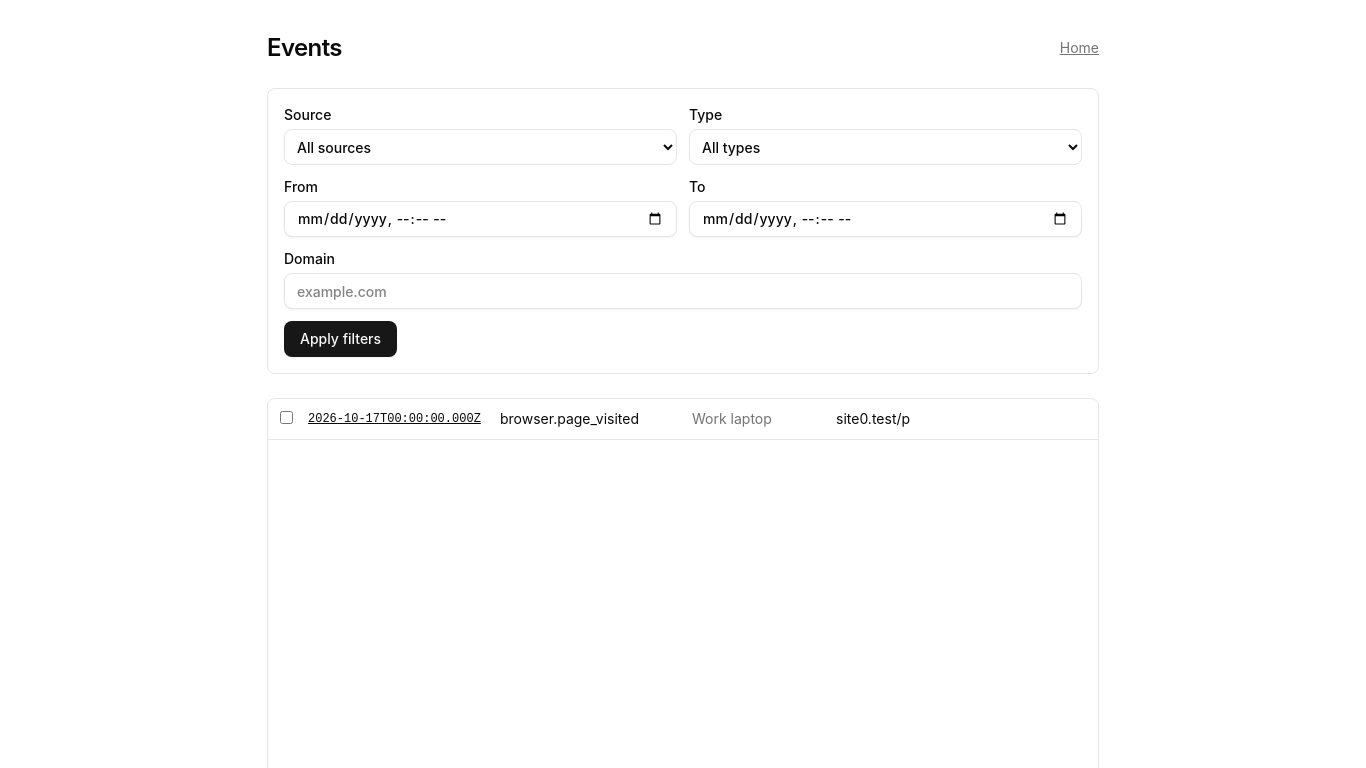
Test: events page › why is this here › names the deciding rule and what it did
Click the button named "open event 1": (394, 419) 308,411 -> 481,427
(page scrolled)
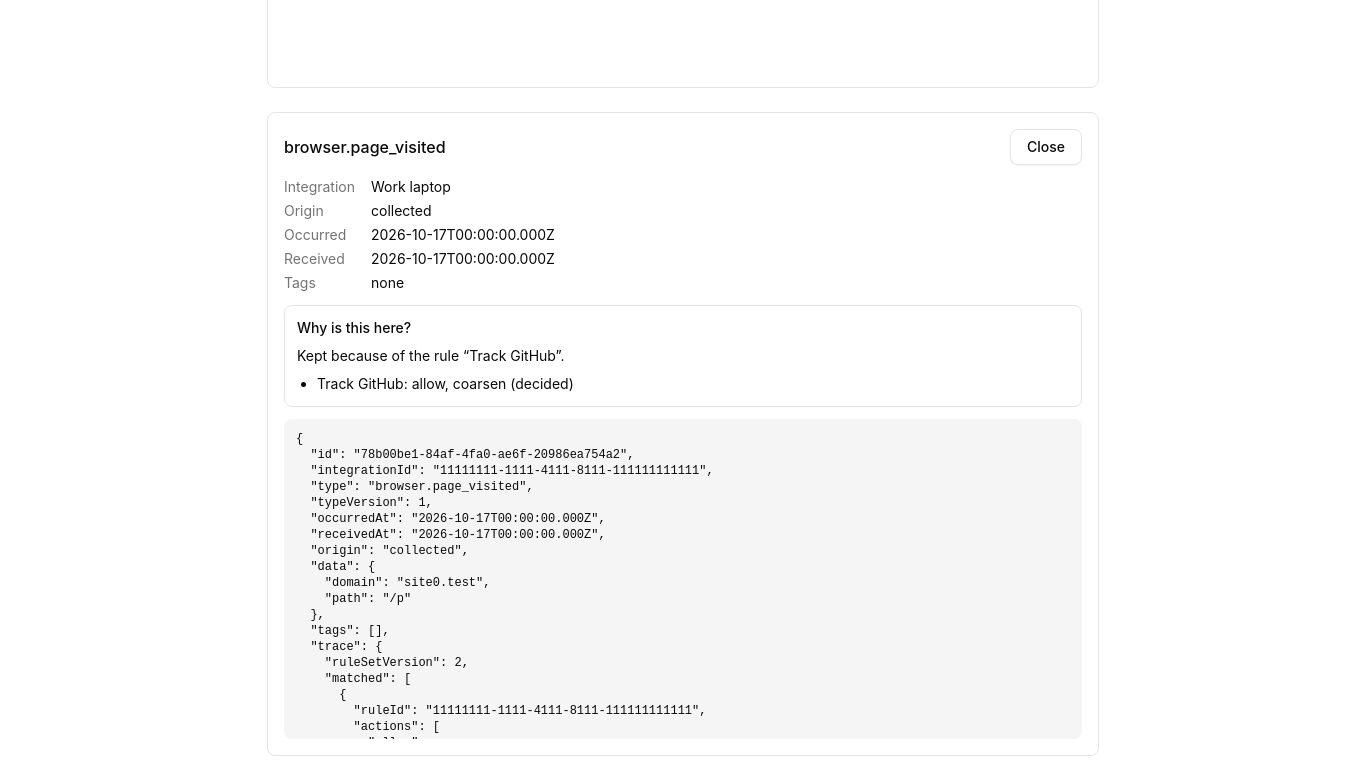
Check: the text "Kept because of the rule “Track GitHub”." is shown, box 297,347 -> 564,364
Check: the list item "Track GitHub: allow, coarsen (decided)" is shown, box 317,375 -> 574,392
